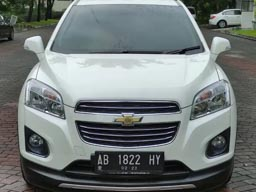plat: (94, 152, 163, 165)
